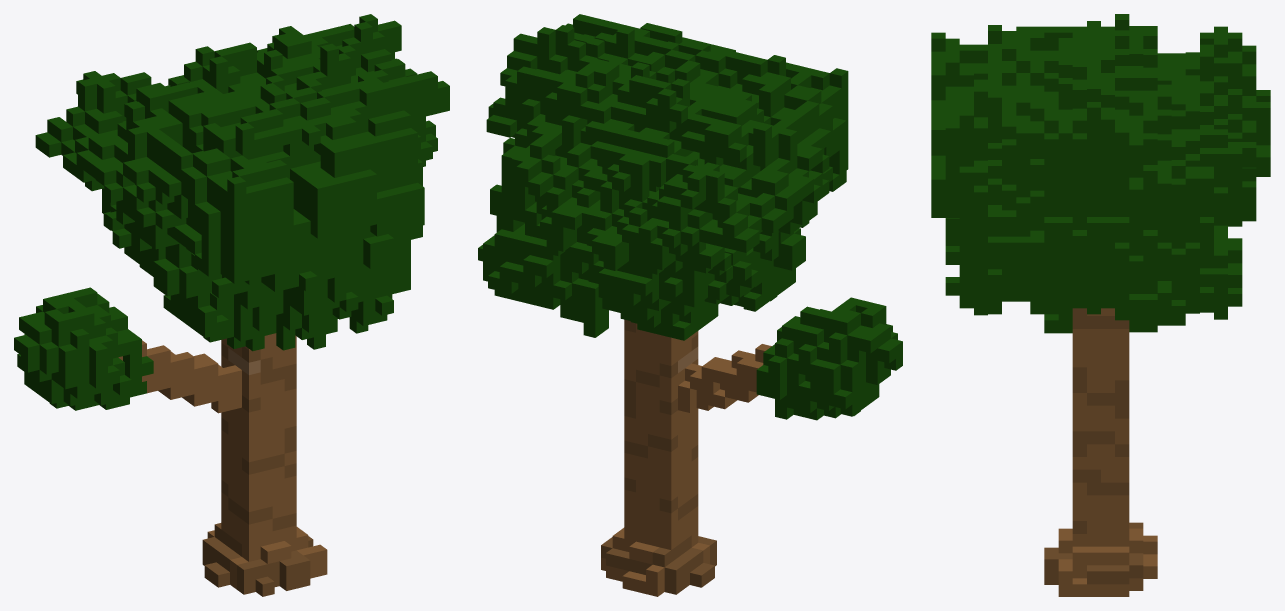
Rendered from Arbol03.obj.
The picture shows the model from 3 angles, left to right: view 1: azimuth 30°, elevation 25°; view 2: azimuth 150°, elevation 25°; view 3: azimuth 270°, elevation 25°; orthographic projection. The views are drawn at different scales.
Size of the model in its own units: 3.3 by 4.2 by 2.4.
Materials: 1 (1 with a texture image).
